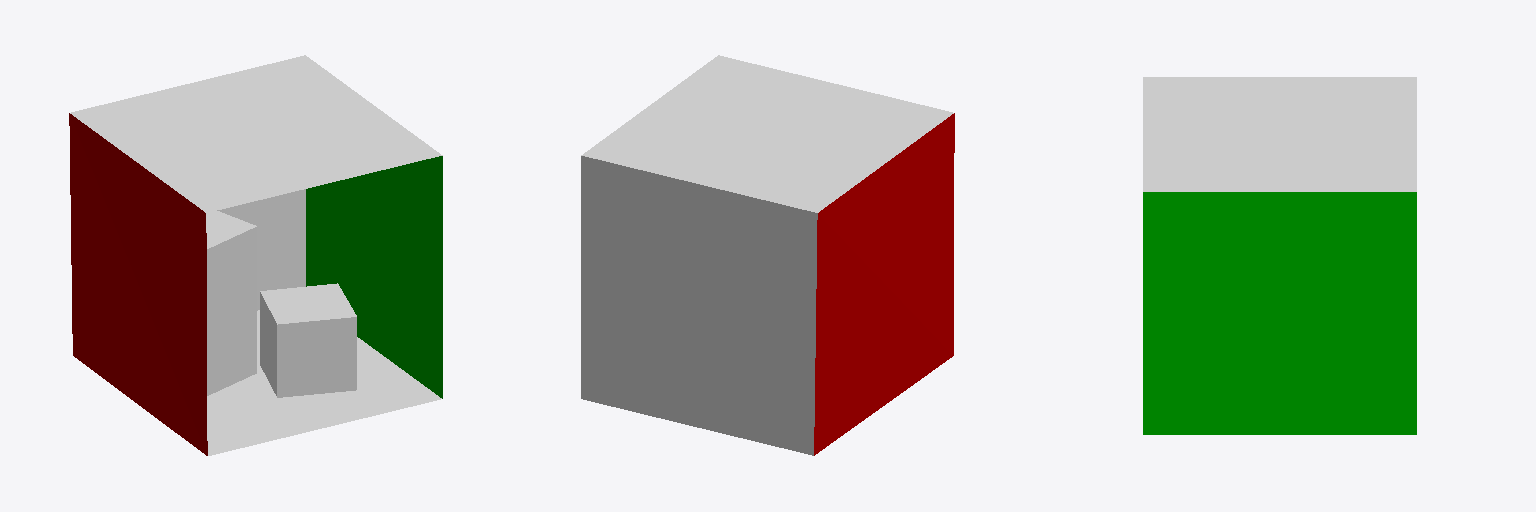
The model's file is cornellbox.obj.
The picture shows the model from 3 angles: view 1: azimuth 30°, elevation 25°; view 2: azimuth 150°, elevation 25°; view 3: azimuth 270°, elevation 25°; orthographic projection.
Visible parts, largest first — view 1: leftWall.009, ceiling.008, rightWall.008, floor.008, shortBox_shortBox_.005, longBox_shortBox.007, backWall.008; view 2: backWall.008, leftWall.009, ceiling.008; view 3: rightWall.008, ceiling.008.
Part boxes in pixels (x1,y1,x2,y2): leftWall.009: (69, 113, 207, 455); ceiling.008: (70, 55, 442, 212); rightWall.008: (306, 156, 442, 398); floor.008: (207, 310, 441, 455); shortBox_shortBox_.005: (260, 283, 356, 397); longBox_shortBox.007: (206, 211, 256, 395); backWall.008: (217, 189, 305, 310); backWall.008: (581, 156, 817, 455); leftWall.009: (814, 113, 954, 455); ceiling.008: (581, 55, 953, 212); rightWall.008: (1143, 192, 1416, 434); ceiling.008: (1143, 77, 1416, 191).
Bounding box in the file's own units: 2.02 × 1.99 × 2.03.